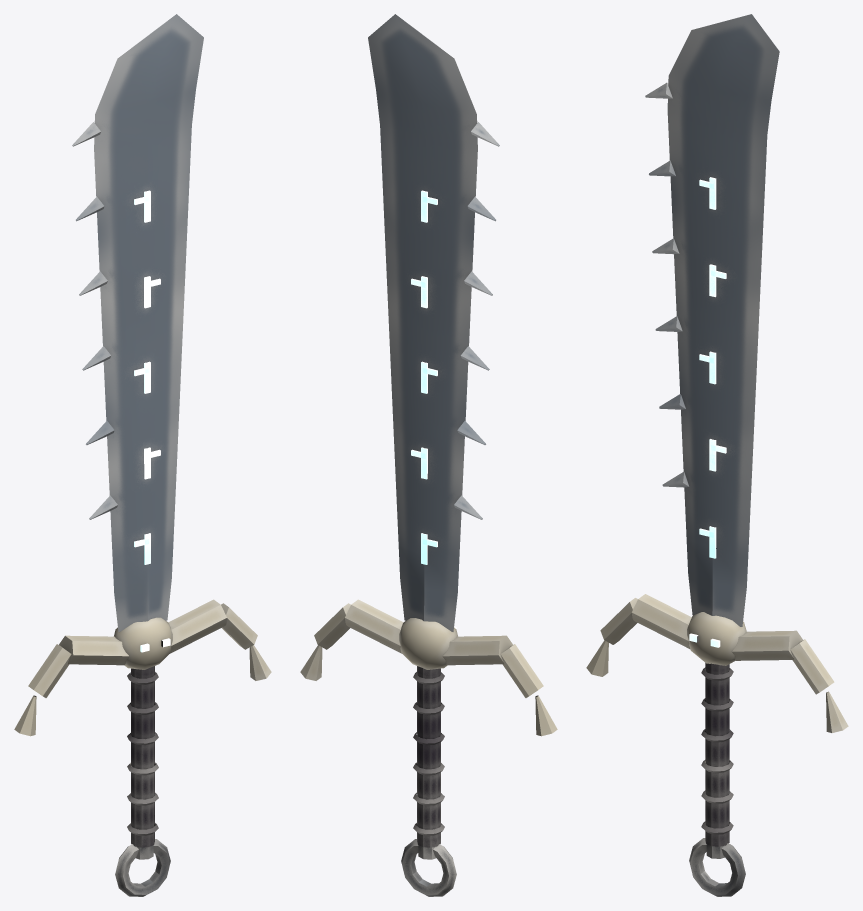
File: weapon_runeblade.glb
3 views of the same model, side by side, from view 1: azimuth 30°, elevation 25°; view 2: azimuth 150°, elevation 25°; view 3: azimuth 330°, elevation 25° (orthographic).
Parts seen in each view (by area): view 1: weapon_runeblade; view 2: weapon_runeblade; view 3: weapon_runeblade.
Part boxes in pixels (x1=…): weapon_runeblade: x1=14, y1=14, x2=271, y2=896; weapon_runeblade: x1=300, y1=14, x2=557, y2=896; weapon_runeblade: x1=586, y1=14, x2=848, y2=896.
Size of the model in its own units: 0.5238 by 1.74 by 0.093.
Materials: 1 (1 with a texture image).
